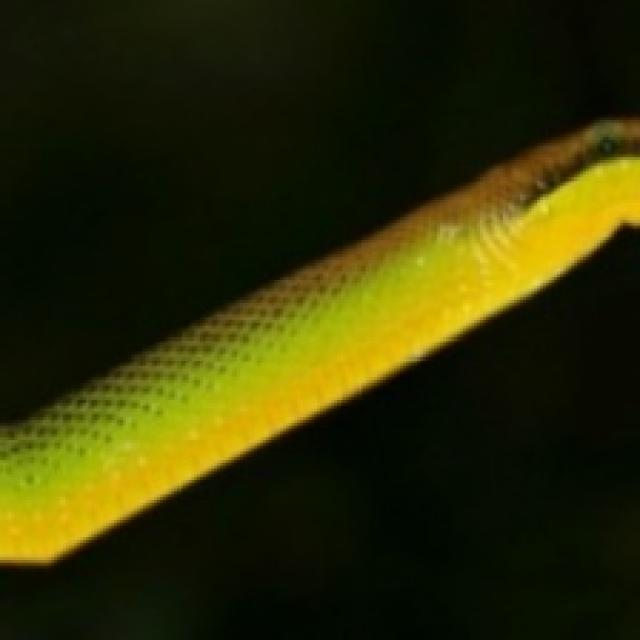red-tailed green ratsnake: (0, 117, 637, 560)
